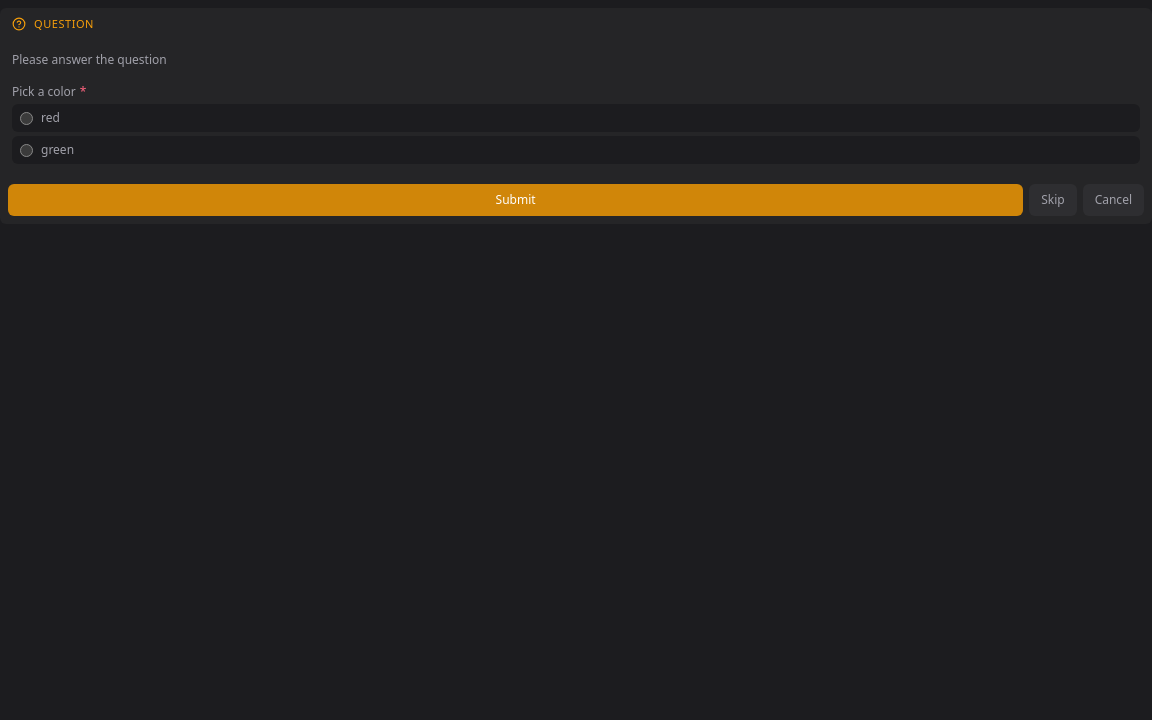
Test: AskUserQuestionCard single_select › blocks submit on a required single_select with nothing chosen
Click the button "Submit" at (516, 200), box x1=8 y1=184 x2=1023 y2=216
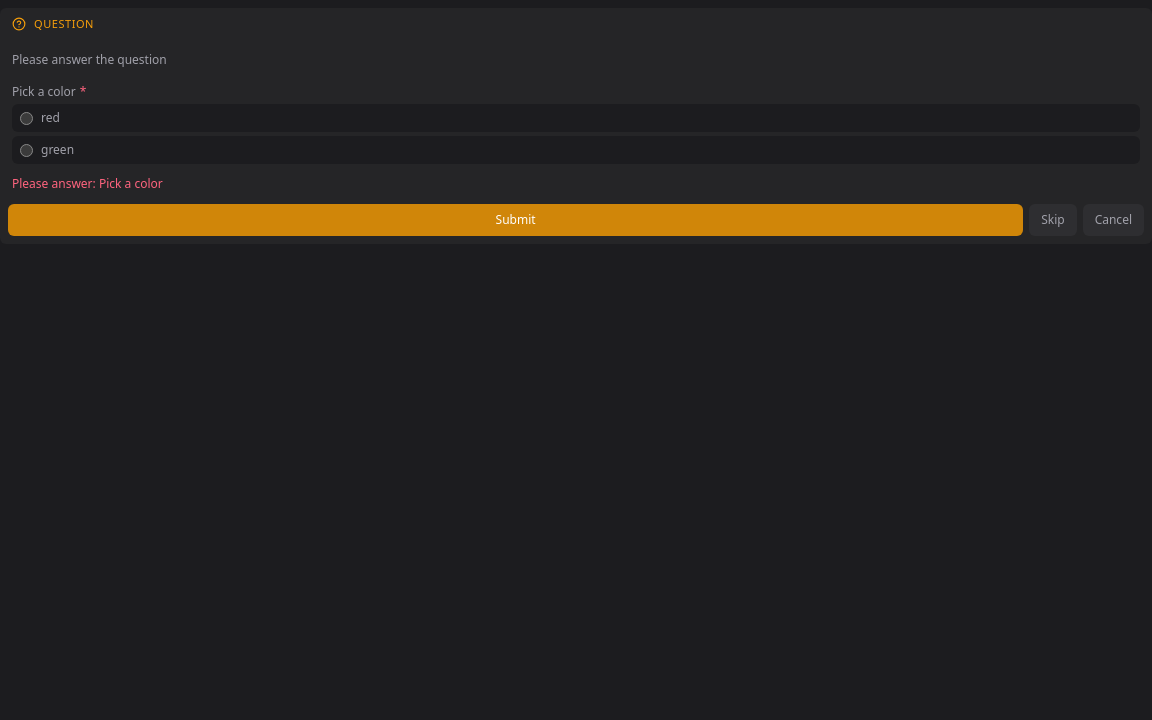
Check: the text "Please answer: Pick a color" is shown, box x1=12 y1=175 x2=163 y2=192
